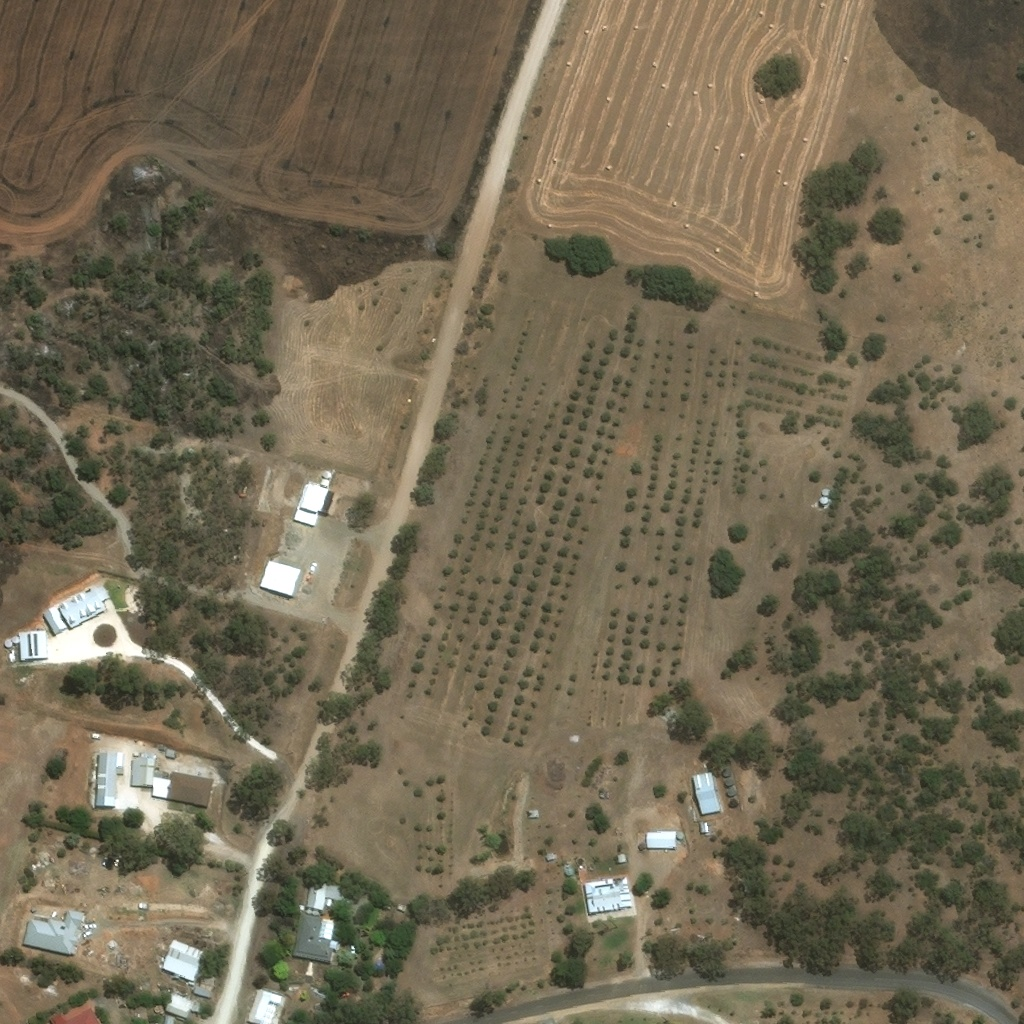0 no-damage: (21, 907, 84, 955), (58, 583, 110, 629), (150, 771, 213, 808), (292, 914, 339, 960), (291, 476, 332, 527), (157, 939, 203, 983), (583, 878, 630, 915), (94, 750, 123, 809), (690, 771, 721, 816), (305, 879, 341, 911), (49, 1001, 101, 1023), (163, 993, 199, 1019), (130, 751, 155, 787), (19, 630, 47, 661), (43, 604, 67, 634), (645, 832, 675, 849), (190, 985, 212, 1000), (370, 954, 382, 969), (697, 821, 708, 833), (818, 494, 829, 505), (164, 748, 176, 758), (323, 468, 334, 478), (3, 638, 13, 648), (394, 904, 405, 913), (562, 868, 572, 877), (525, 811, 536, 819), (159, 1016, 171, 1023), (615, 855, 624, 864), (720, 769, 729, 778), (821, 487, 831, 495), (543, 855, 552, 863), (723, 780, 731, 788), (725, 790, 733, 798), (12, 635, 19, 644), (562, 860, 570, 867), (312, 910, 318, 915), (305, 909, 312, 913)
